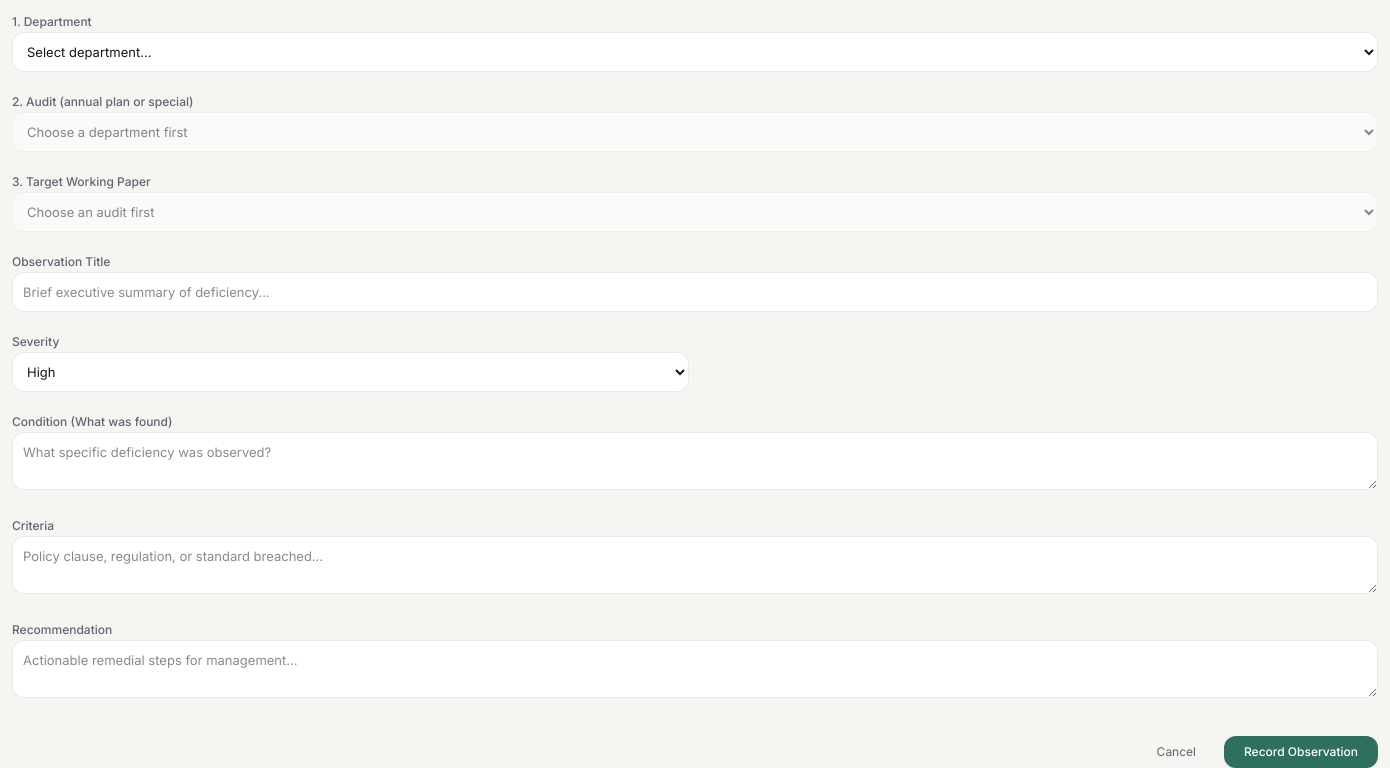
Scenario: components show errors in place › ObservationDrilldown: an empty form shows an inline error and no native dialog
(page scrolled)
Click the button "Record Observation" at (1301, 752), box [1224,736,1378,767]
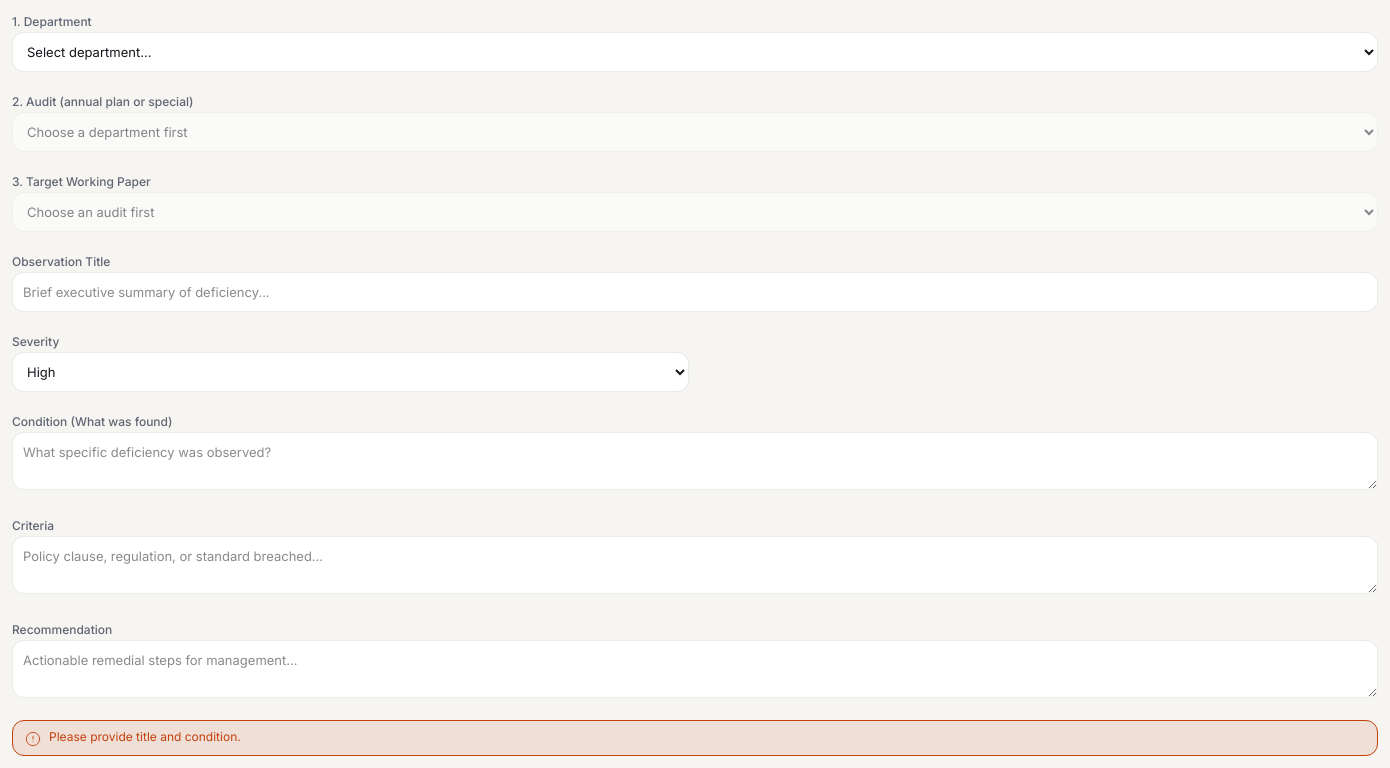
Result: the message with test id "observation-form-error" reads "Please provide title and condition." at [49,729,241,744]
